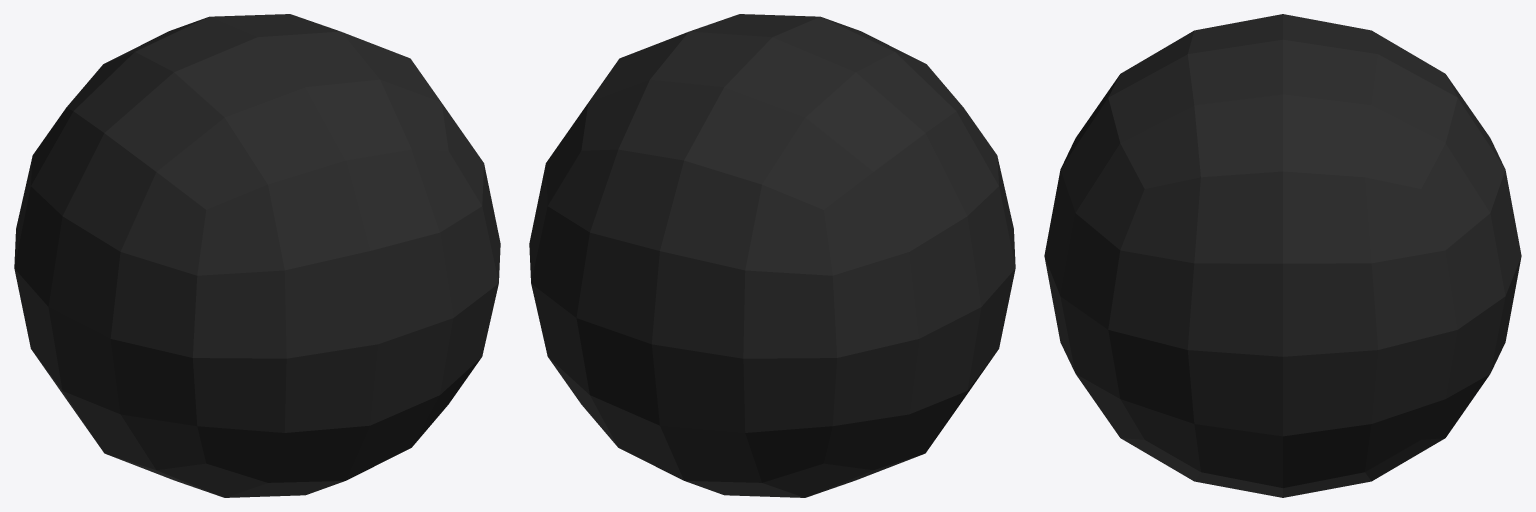
Rendered from Mesh_Canonball.fbx.
3 views of the same model, side by side, from view 1: azimuth 30°, elevation 25°; view 2: azimuth 150°, elevation 25°; view 3: azimuth 270°, elevation 25° (orthographic).
Visible parts, largest first — view 1: Mesh_Canonball; view 2: Mesh_Canonball; view 3: Mesh_Canonball.
Part boxes in pixels (bbox=[...]): Mesh_Canonball: bbox=[14, 14, 500, 497]; Mesh_Canonball: bbox=[529, 14, 1015, 497]; Mesh_Canonball: bbox=[1044, 14, 1521, 497].
Size of the model in its own units: 8.78 by 8.78 by 8.78.
1 material, 1 textured.
